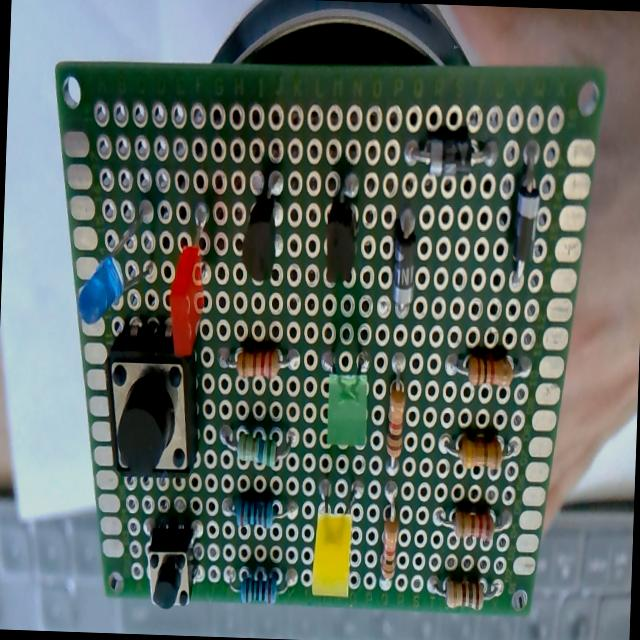diode: (510, 139, 542, 284), (404, 135, 494, 178), (390, 205, 418, 315)
led: (76, 201, 154, 326), (165, 198, 208, 362), (309, 474, 356, 598), (318, 342, 371, 449)
resistor: (218, 424, 296, 470), (440, 430, 516, 473), (384, 352, 408, 476), (445, 351, 529, 386), (434, 503, 508, 542), (218, 343, 298, 379), (428, 574, 501, 612), (226, 566, 294, 606), (222, 492, 292, 528), (378, 476, 400, 586)
switch: (104, 318, 202, 479), (145, 522, 197, 612)
transistor: (240, 170, 288, 281), (323, 169, 362, 284)
